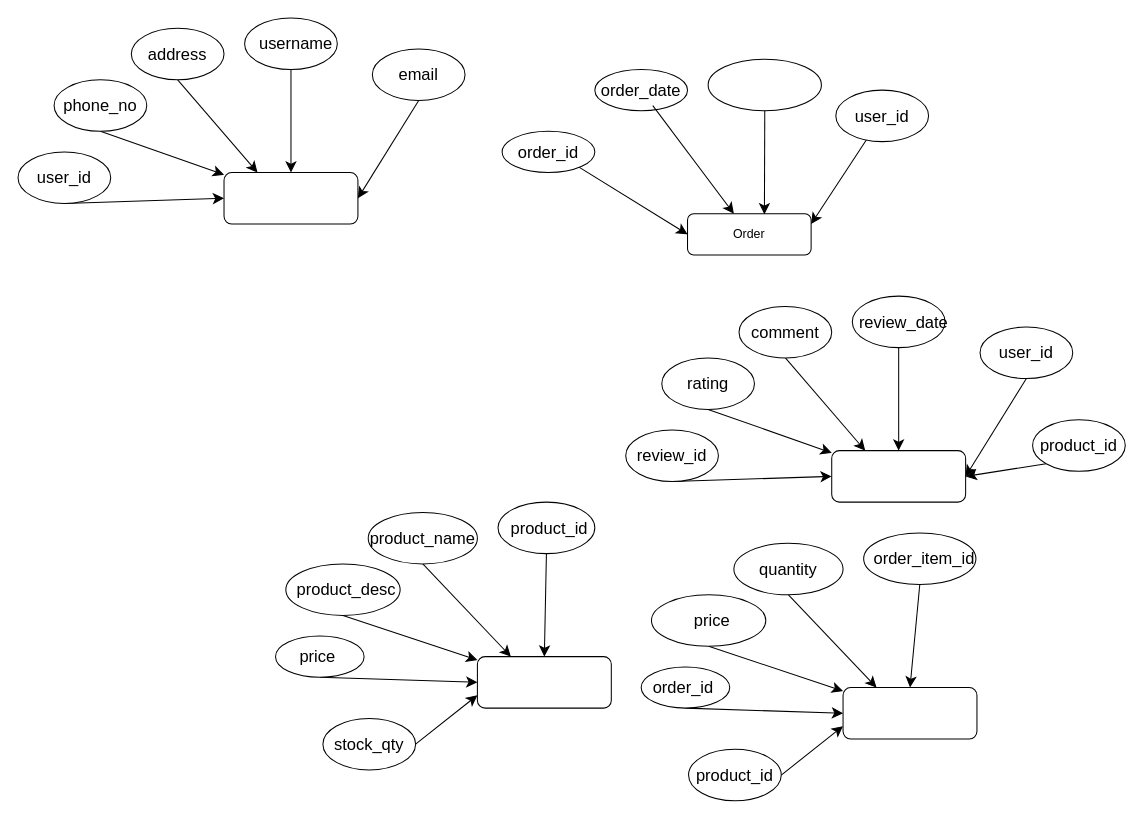
The diagram is 1143 pixels wide and 819 high, and some of its shapes have lost their labels. The centre of each missing label's shape, as x and y in pixels:
"OrderItem" belongs at (x=909, y=712).
"Product" belongs at (x=543, y=682).
"Review" belongs at (x=898, y=476).
"total_amount" belongs at (x=764, y=84).
"User" belongs at (x=290, y=197).
